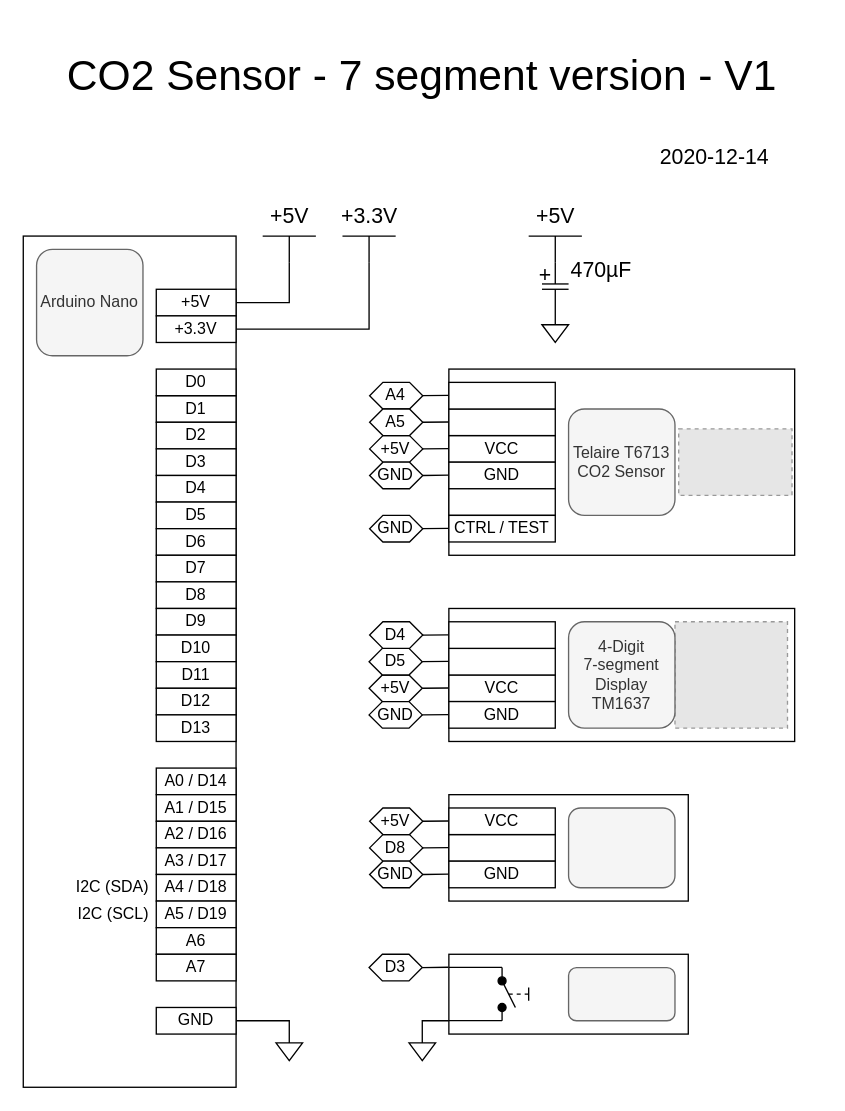
This 845x1111 diagram has some shape labels left out. Grey dashed boxes stand in for pictures. Each missing label, with the centre of its shape:
CLK: pixel 501 634
DIN: pixel 501 847
DIO: pixel 501 661
Push Button: pixel 621 993
PWM: pixel 501 501
SCL: pixel 501 422
SDA: pixel 501 395
WS2812B RGB LED: pixel 621 847
